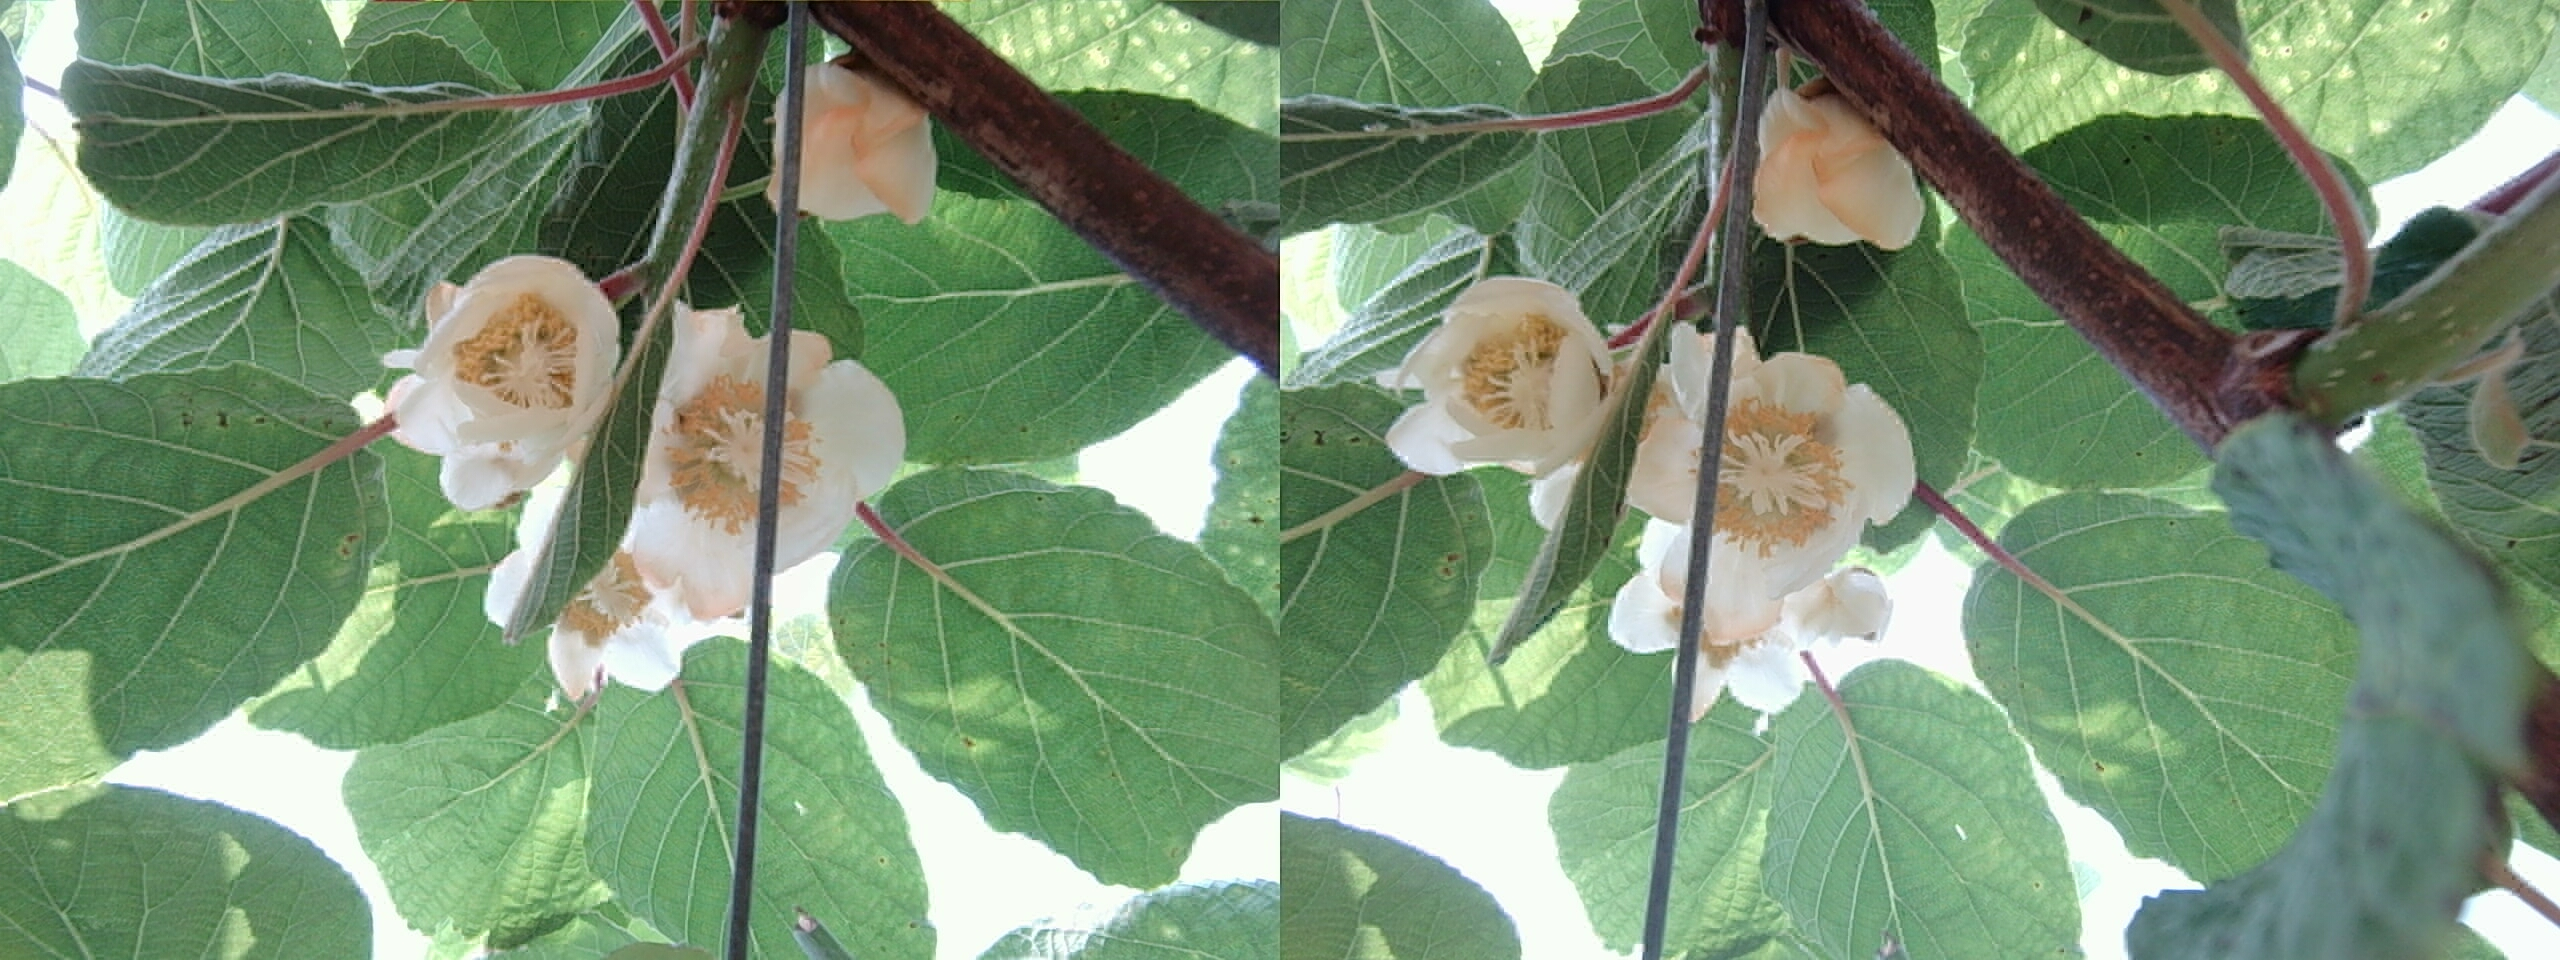flower: (594, 335, 867, 602), (1634, 346, 1905, 606), (372, 250, 616, 501), (1389, 269, 1615, 480), (1753, 87, 1913, 255), (555, 540, 717, 687)
